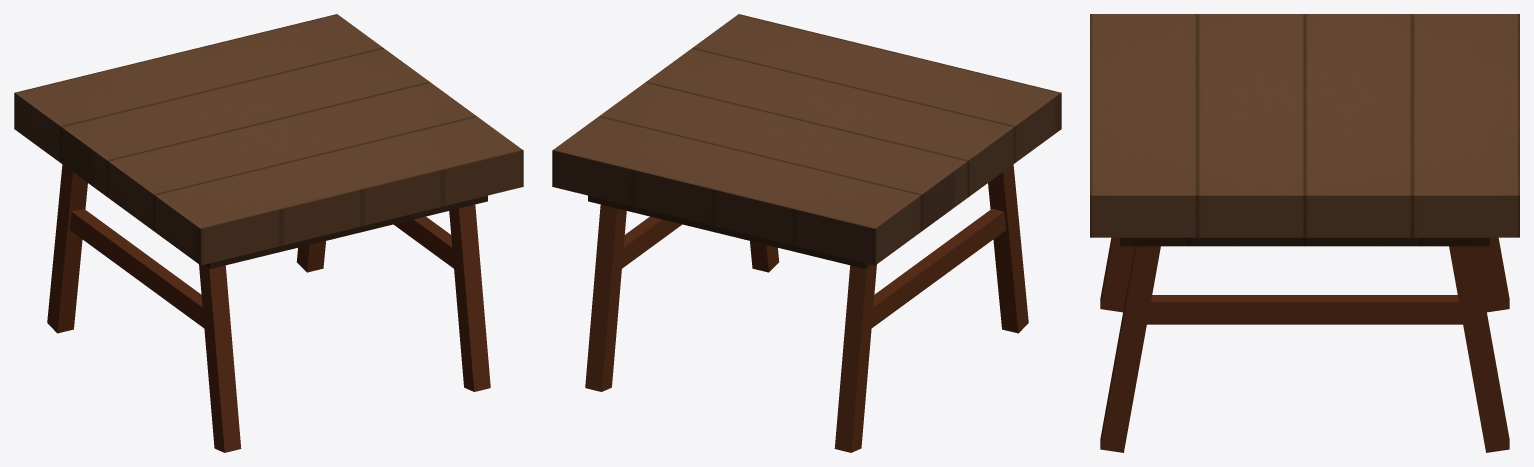
The model's file is order_table.fbx.
3 views of the same model, side by side, from view 1: azimuth 30°, elevation 25°; view 2: azimuth 150°, elevation 25°; view 3: azimuth 270°, elevation 25° (orthographic). The views are drawn at different scales.
Visible parts, largest first — view 1: orderTable, orderTableFoot, Cube.012; view 2: orderTable, orderTableFoot, Cube.012; view 3: orderTable, orderTableFoot, Cube.012.
Boxes of the visible parts, bbox=[...] form: orderTable: bbox=[14, 14, 523, 268]; orderTableFoot: bbox=[47, 164, 490, 452]; Cube.012: bbox=[70, 209, 453, 327]; orderTable: bbox=[552, 14, 1061, 268]; orderTableFoot: bbox=[585, 164, 1028, 452]; Cube.012: bbox=[622, 209, 1005, 327]; orderTable: bbox=[1090, 14, 1519, 246]; orderTableFoot: bbox=[1100, 237, 1509, 452]; Cube.012: bbox=[1147, 295, 1462, 324].
Bounding box in the file's own units: 100 × 70.17 × 100.
2 materials, 1 textured.
